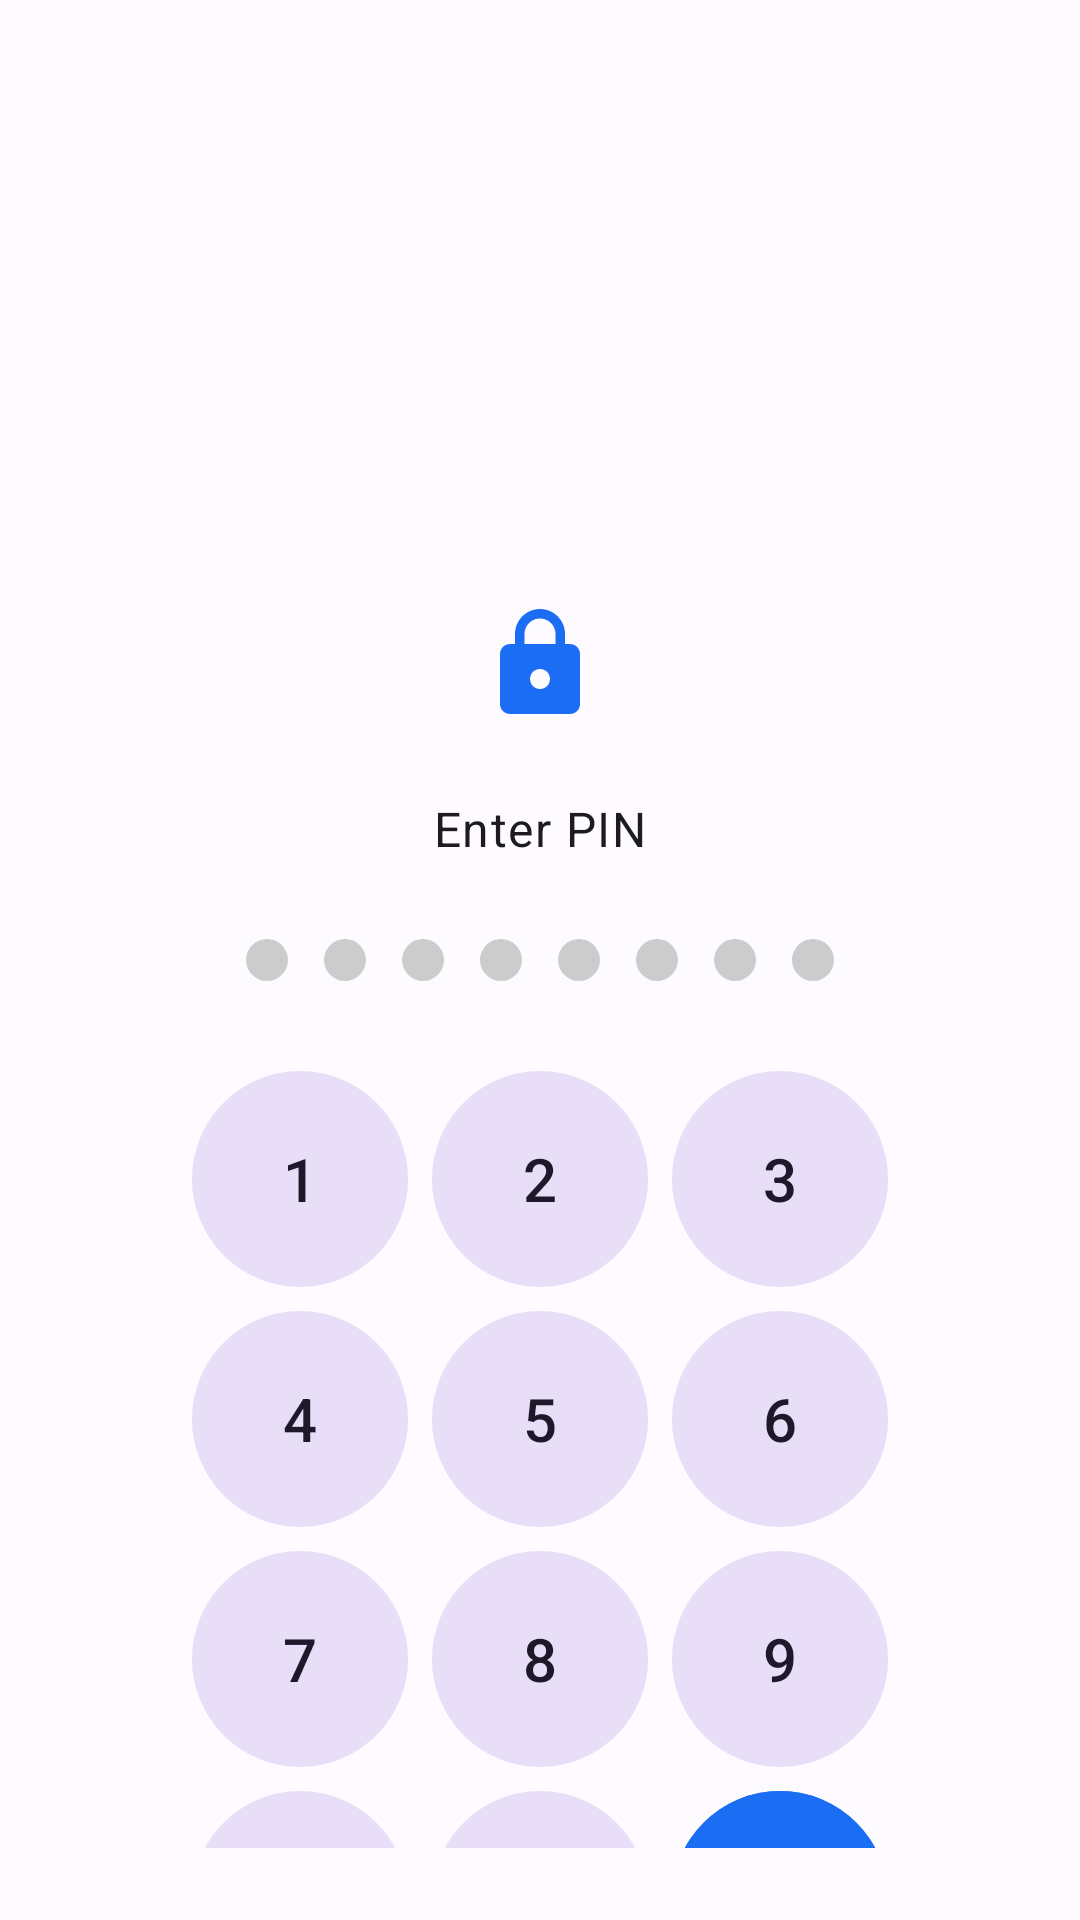

Point at icon controls on the screen. Image size 1080 × 1920, points as (x=x, y=y).
Lock icon: (x=540, y=661)
